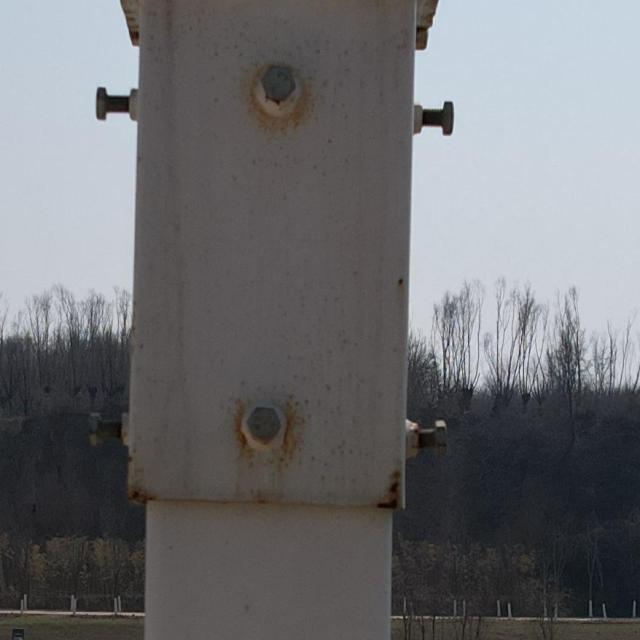blur bolt: (258, 64, 297, 104), (246, 407, 282, 443)
bolt side: (430, 416, 451, 460), (84, 410, 108, 447), (92, 85, 115, 123), (439, 99, 458, 137)
